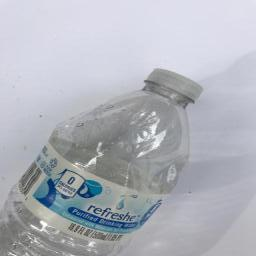plastic: (0, 69, 203, 256)
